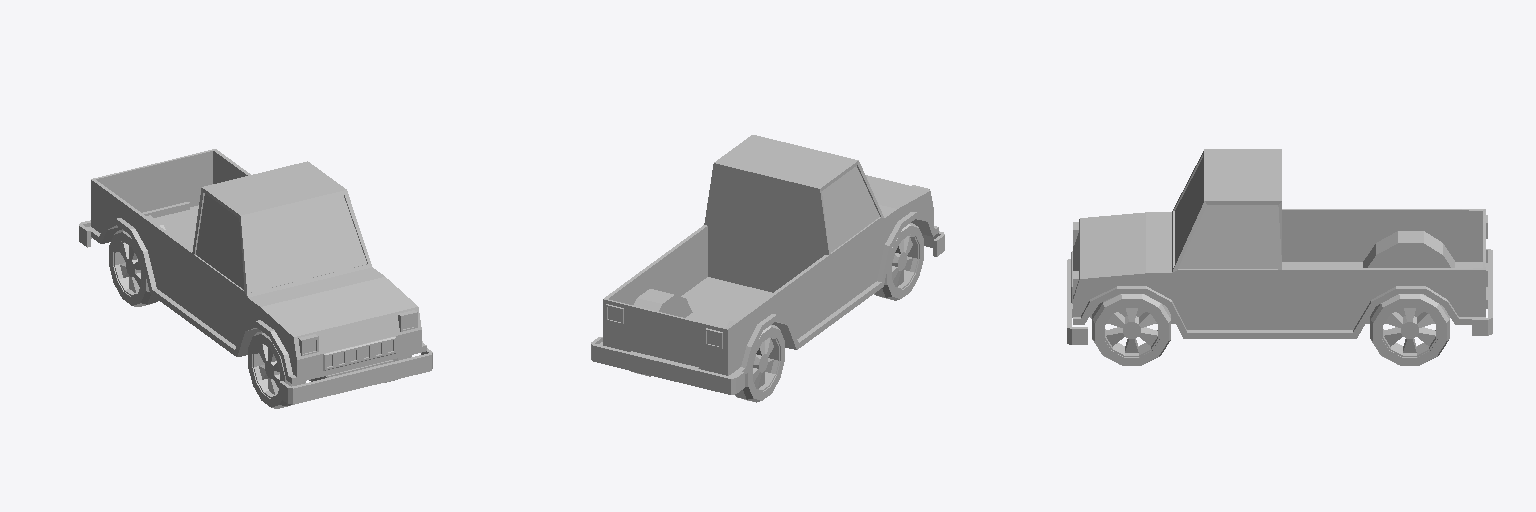
File: pickup.obj
3 renders of one model, left to right at view 1: azimuth 30°, elevation 25°; view 2: azimuth 150°, elevation 25°; view 3: azimuth 270°, elevation 25°, orthographic.
Visible parts, largest first — view 1: pick-up_Cube; view 2: pick-up_Cube; view 3: pick-up_Cube.
Part boxes in pixels (left/top/right/bottom): pick-up_Cube: left=79, top=149, right=432, bottom=408; pick-up_Cube: left=591, top=135, right=944, bottom=402; pick-up_Cube: left=1067, top=149, right=1492, bottom=365.
Size of the model in its own units: 1.02 by 1.09 by 2.6.